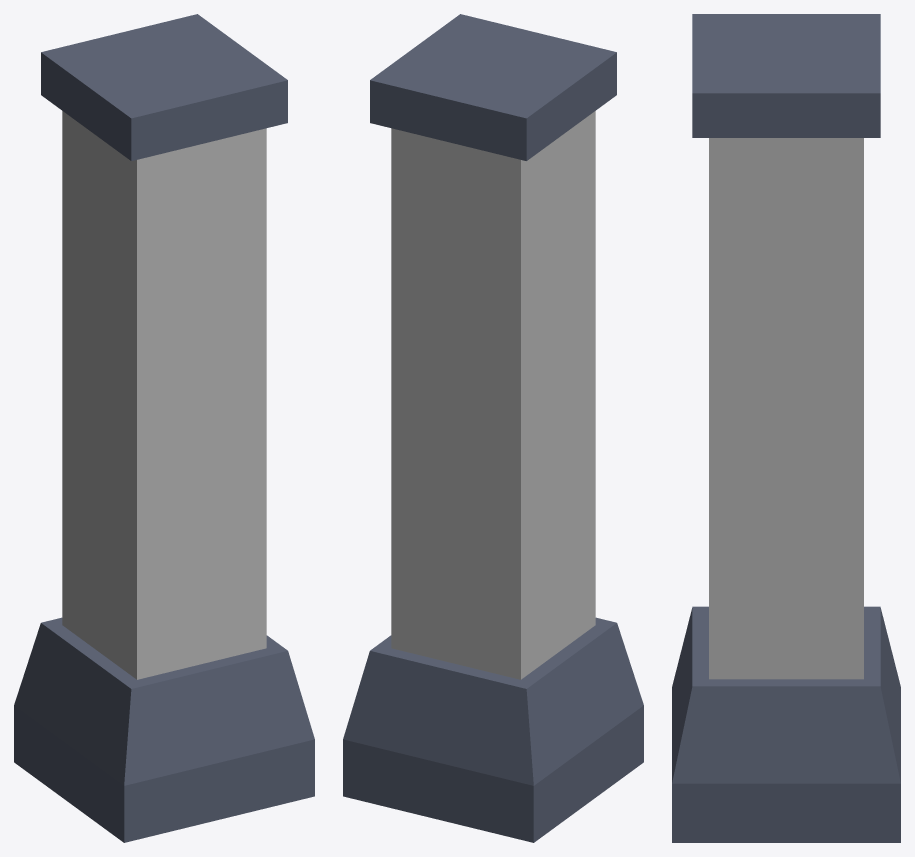
Rendered from SM_Pillar_Wide.fbx.
The picture shows the model from 3 angles, left to right: view 1: azimuth 30°, elevation 25°; view 2: azimuth 150°, elevation 25°; view 3: azimuth 270°, elevation 25°; orthographic projection. The views are drawn at different scales.
Visible parts, largest first — view 1: SM_Pillar_Wide; view 2: SM_Pillar_Wide; view 3: SM_Pillar_Wide.
Boxes of the visible parts, x1,y1,x2,y2 form: SM_Pillar_Wide: (14,14,314,842); SM_Pillar_Wide: (343,14,643,842); SM_Pillar_Wide: (672,14,900,842).
Size of the model in its own units: 140 by 500 by 140.
